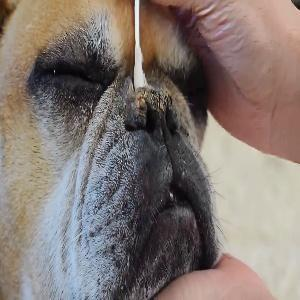keratosis: (120, 84, 182, 133)
